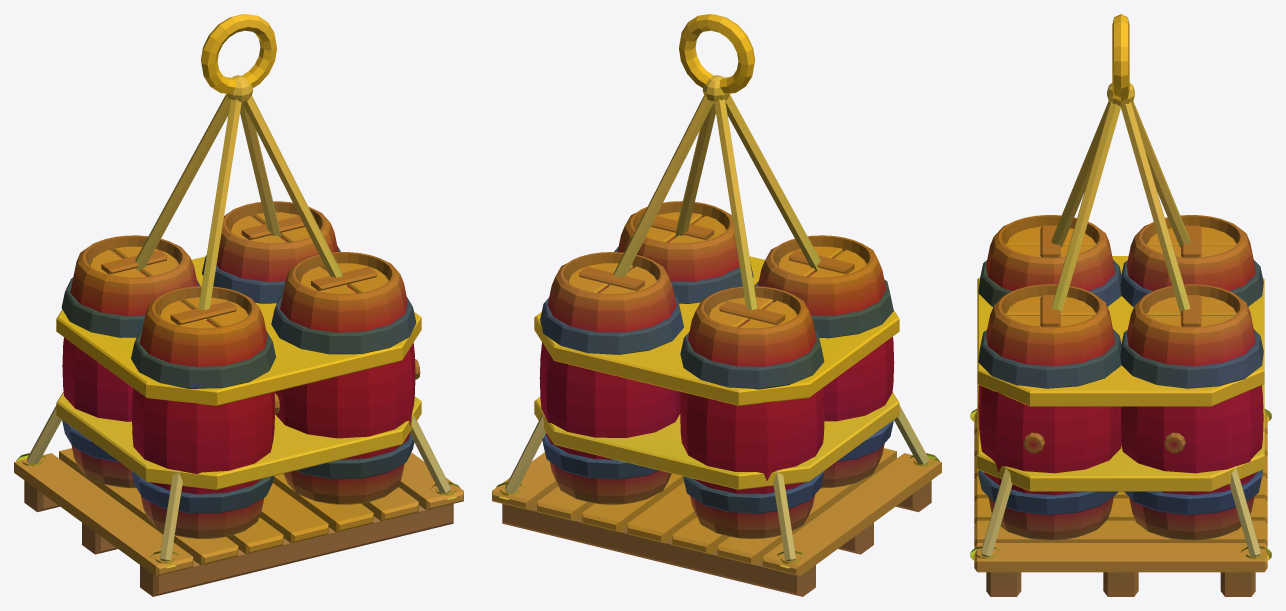
Rendered from Prop_CargoBarrels.glb.
3 views of the same model, side by side, from view 1: azimuth 30°, elevation 25°; view 2: azimuth 150°, elevation 25°; view 3: azimuth 270°, elevation 25° (orthographic).
Parts seen in each view (by area): view 1: Cargo; view 2: Cargo; view 3: Cargo.
Part boxes in pixels (x1,y1,x2,y2): Cargo: (14, 14, 463, 596); Cargo: (492, 14, 941, 596); Cargo: (970, 14, 1271, 596).
Bounding box in the file's own units: 1.23 × 1.9 × 1.03.
